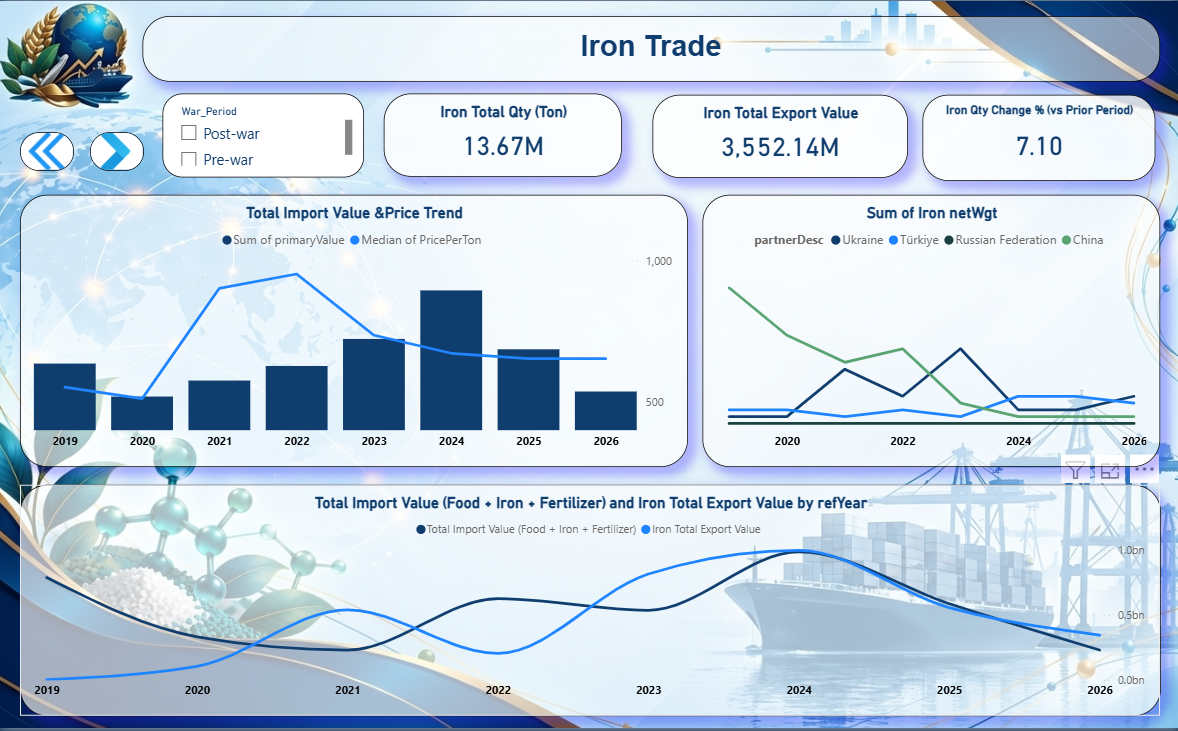

Layout of this report page (visuals, bound fields, positions):
{"tool":"powerbi","page":{"name":"Iron","canvas":[1291,797],"ordinal":3},"visuals":[{"type":"lineChart","fields":{"Category":["Iron Trade.refYear"],"Y":["Table.Total Import Value (Food + Iron + Fertilizer)"],"Y2":["Countries.Iron Total Export Value"]},"box":[21.7,530,1250,253.3],"z":0},{"type":"lineClusteredColumnComboChart","title":"Total Import Value &Price Trend","fields":{"Category":["Iron Trade.refYear"],"Y":["Sum(Iron Trade.primaryValue)"],"Y2":["Median(Iron Trade.PricePerTon)"]},"box":[21.7,211.7,731.7,298.3],"z":1000},{"type":"textbox","box":[156.7,16.7,1115,71.7],"z":2000},{"type":"card","title":"Iron Total Qty (Ton)","fields":{"Values":["Countries.Iron Total Qty (Ton)"]},"box":[420,102,261,91],"z":3000,"group":"g1"},{"type":"lineChart","title":"Sum of  Iron netWgt","fields":{"Category":["Iron Trade.refYear"],"Y":["Iron Trade.Supplier Rank"],"Series":["Iron Trade.partnerDesc"]},"box":[770,211.7,501.7,298.3],"z":3000},{"type":"card","title":"Iron Total Export Value","fields":{"Values":["Countries.Iron Total Export Value"]},"box":[714,103,280,91],"z":4000,"group":"g1"},{"type":"group","id":"g1","title":"Group 2","box":[420,102,845,95],"z":6000},{"type":"card","title":"Iron Qty Change % (vs Prior Period)","fields":{"Values":["Iron Trade.Iron Qty Change % (vs Prior Period)"]},"box":[1010,103,255,94],"z":6000,"group":"g1"},{"type":"image","box":[22,144,59,42],"z":7000},{"type":"image","box":[98,144,59,42],"z":8000},{"type":"slicer","fields":{"Values":["Iron Trade.War_Period"]},"box":[178,102,221,92],"z":9000}]}

Visuals, with their boxes in screenshot pixels (x1, y1, x2, y2), scaled from the page's 1291x797 canvas onto the 1178x731 screenshot:
lineChart - Iron Trade.refYear x Table.Total Import Value (Food + Iron + Fertilizer): bbox=[20, 486, 1160, 718]
"Total Import Value &Price Trend" lineClusteredColumnComboChart: bbox=[20, 194, 687, 468]
textbox: bbox=[143, 15, 1160, 81]
"Iron Total Qty (Ton)" card: bbox=[383, 94, 621, 177]
"Sum of  Iron netWgt" lineChart: bbox=[703, 194, 1160, 468]
"Iron Total Export Value" card: bbox=[652, 94, 907, 178]
"Group 2" group: bbox=[383, 94, 1154, 181]
"Iron Qty Change % (vs Prior Period)" card: bbox=[922, 94, 1154, 181]
image: bbox=[20, 132, 74, 171]
image: bbox=[89, 132, 143, 171]
slicer - Iron Trade.War_Period: bbox=[162, 94, 364, 178]
